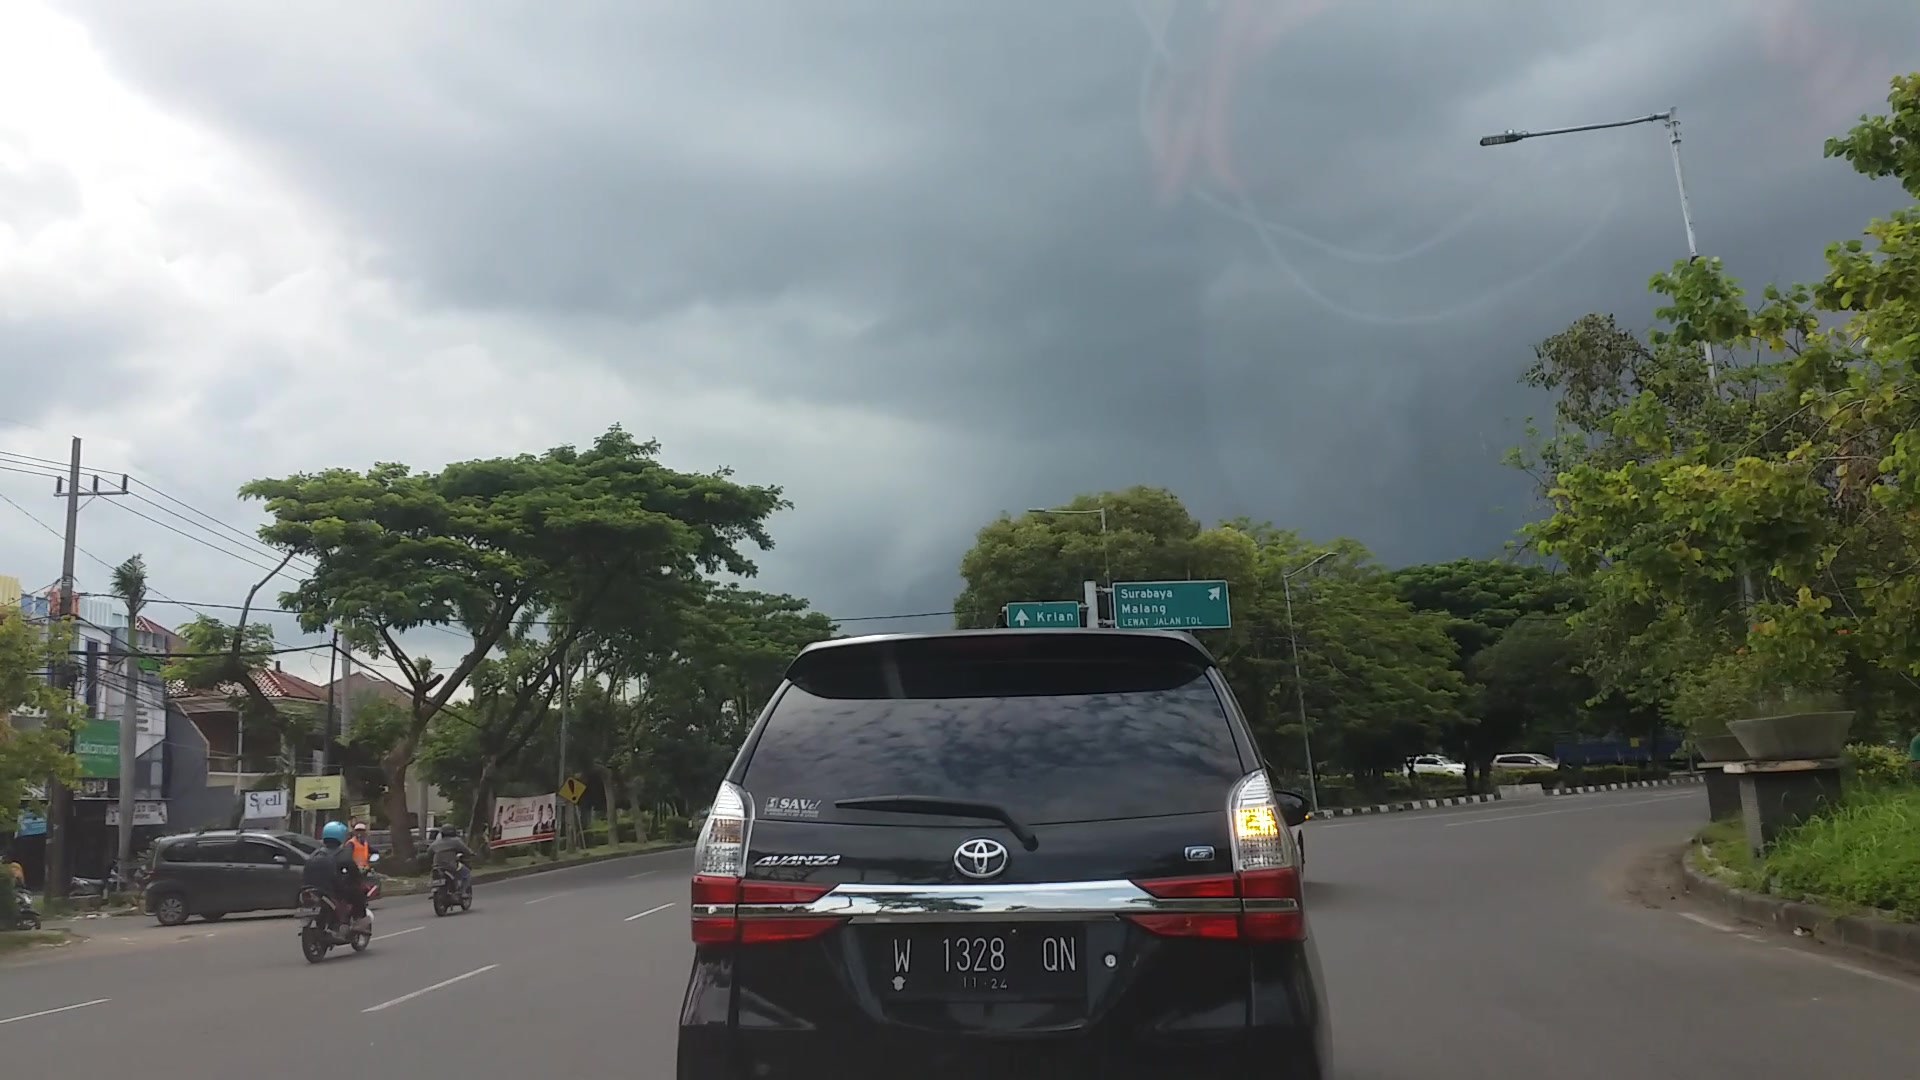plate_positive: (887, 924, 1081, 996)
